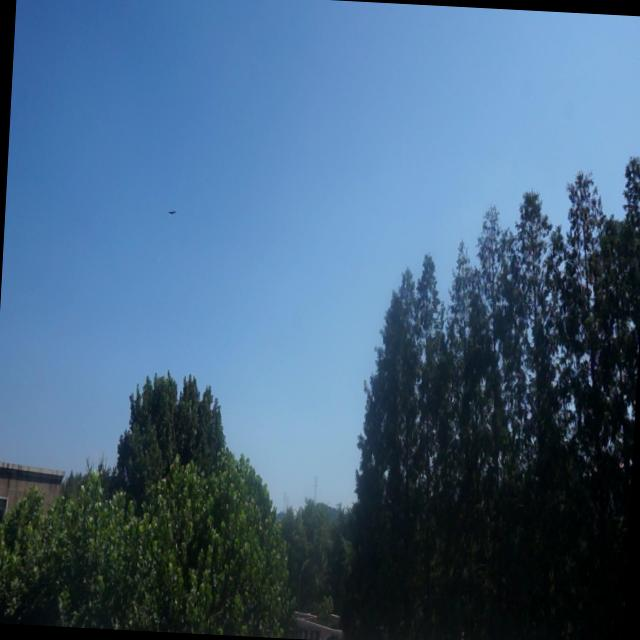drone: (165, 206, 179, 220)
